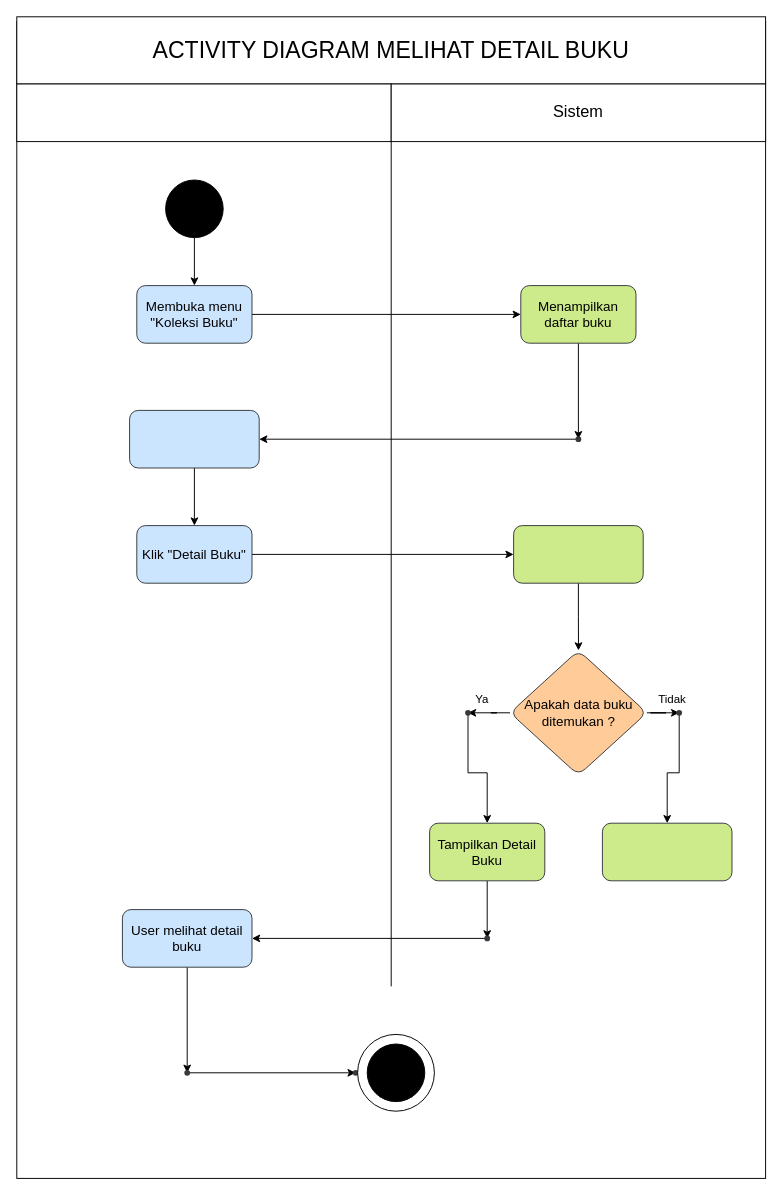
The diagram is 782 pixels wide and 1195 high, and some of its shapes have lost their labels. The shapes that lost their labels are listed below. From the top down, each one's box as (x1, y1, x2, y2) in pixels, then its label:
(16, 83, 391, 142): User
(129, 409, 259, 468): Memilih buku yang ingin dilihat
(513, 525, 643, 583): Mengambil data buku dari database
(601, 822, 732, 881): Tampilkan pesan "Data buku tidak ditemukan"
